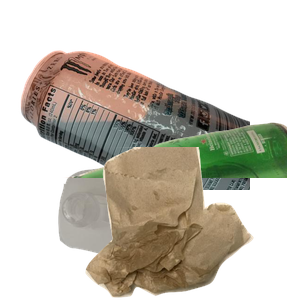glass: (60, 120, 300, 300)
metal: (18, 48, 258, 228)
plastic: (56, 166, 241, 300)
trash: (83, 147, 300, 300)
